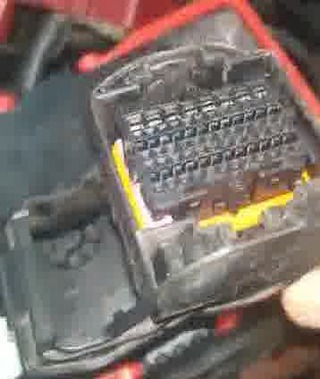connector: (87, 42, 320, 321)
